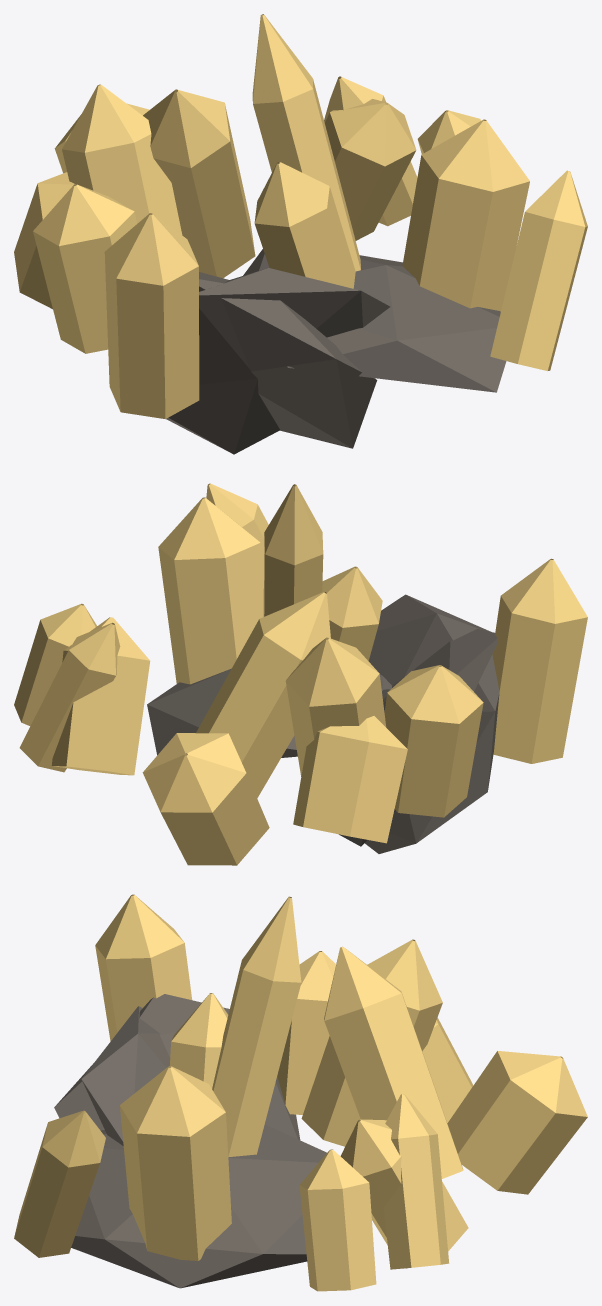
The model's file is ore2.glb.
3 renders of one model, top to bottom at view 1: azimuth 30°, elevation 25°; view 2: azimuth 150°, elevation 25°; view 3: azimuth 270°, elevation 25°, orthographic. The views are drawn at different scales.
Parts seen in each view (by area): view 1: Ore; view 2: Ore; view 3: Ore.
Boxes of the visible parts, x1,y1,x2,y2 form: Ore: [14, 14, 587, 454]; Ore: [14, 483, 587, 865]; Ore: [14, 894, 587, 1291].
Bounding box in the file's own units: 2.95 × 2.28 × 3.05.
